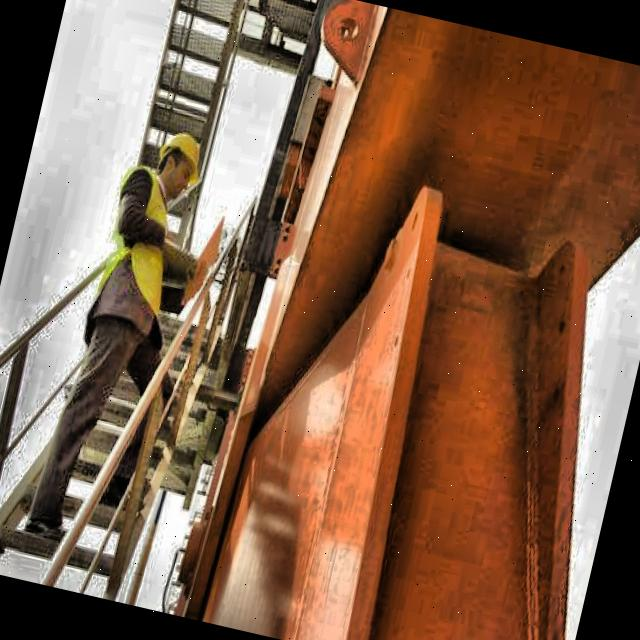helmet: (149, 114, 213, 200)
